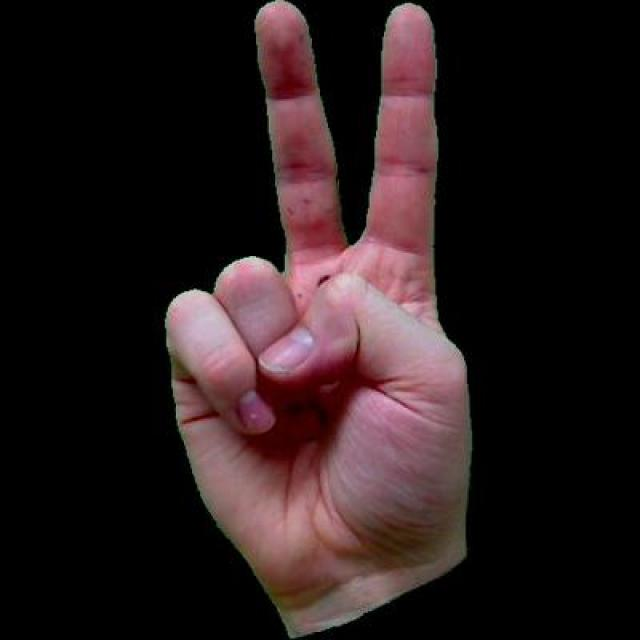v: (150, 0, 485, 637)
